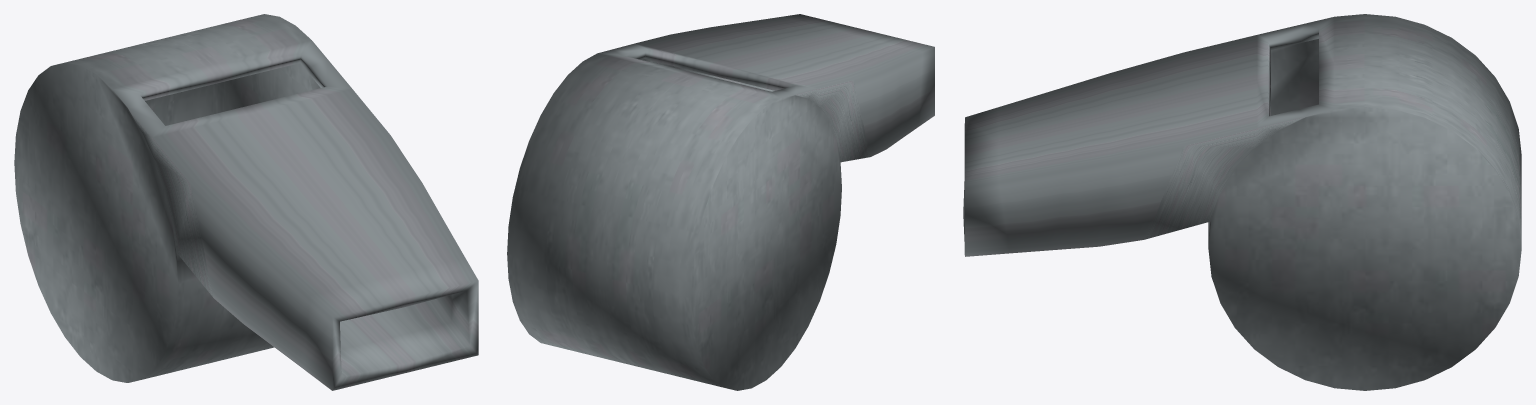
File: WhistleShape_4_0_001.obj
3 renders of one model, left to right at view 1: azimuth 30°, elevation 25°; view 2: azimuth 150°, elevation 25°; view 3: azimuth 270°, elevation 25°, orthographic. The views are drawn at different scales.
Visible parts, largest first — view 1: WhistleShape_4_0.001; view 2: WhistleShape_4_0.001; view 3: WhistleShape_4_0.001.
Part boxes in pixels (x1,y1,x2,y2): WhistleShape_4_0.001: (14, 14, 478, 390); WhistleShape_4_0.001: (507, 14, 934, 390); WhistleShape_4_0.001: (963, 14, 1521, 390).
Size of the model in its own units: 0.165 by 0.2347 by 0.4185.
1 material, 1 textured.
